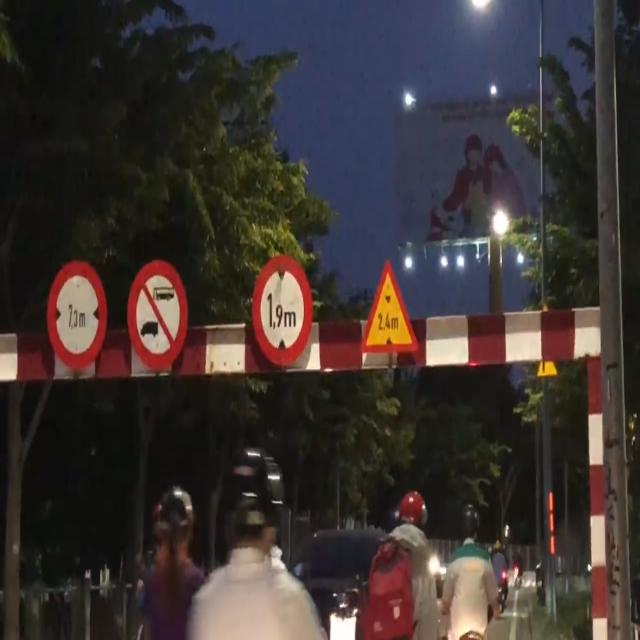Bien bao cam xe oto khach va xe oto tai: (125, 253, 193, 370)
Bien bao chieu cao tinh khong thuc te: (360, 254, 422, 361)
Bien bao han che chieu cao: (252, 253, 320, 372)
